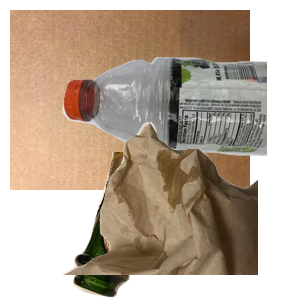cardboard: (10, 10, 250, 190)
glass: (71, 152, 260, 300)
plastic: (60, 53, 300, 201)
trash: (60, 120, 300, 300)
